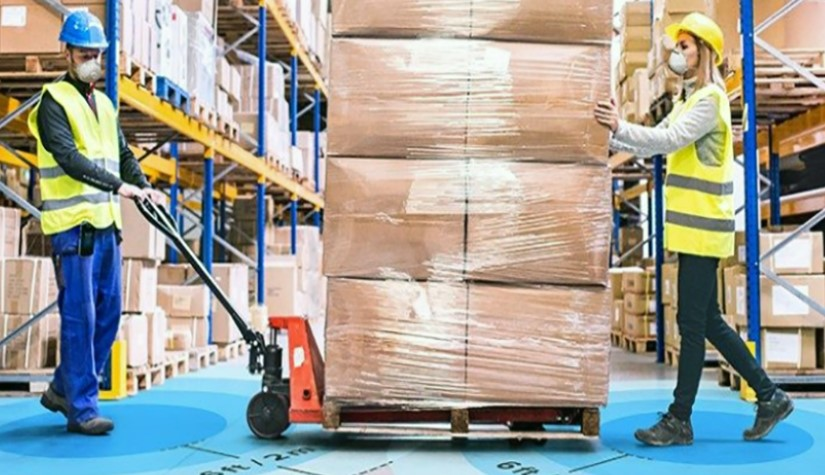worker: (33, 12, 123, 234), (665, 14, 734, 260)
